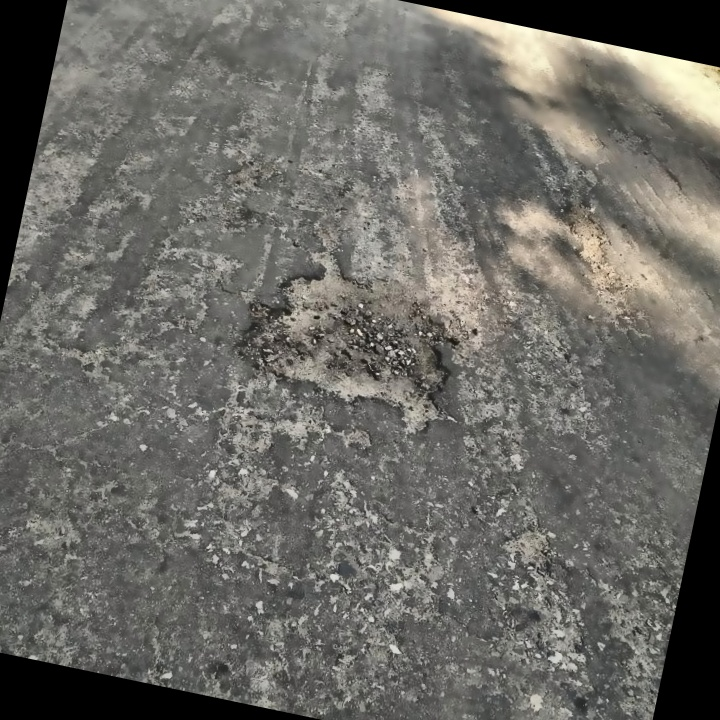pothole: (218, 237, 482, 440), (491, 518, 558, 576)
